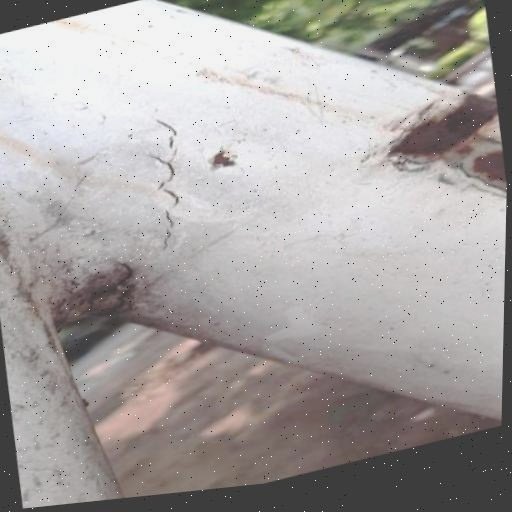crack: (132, 102, 196, 263)
